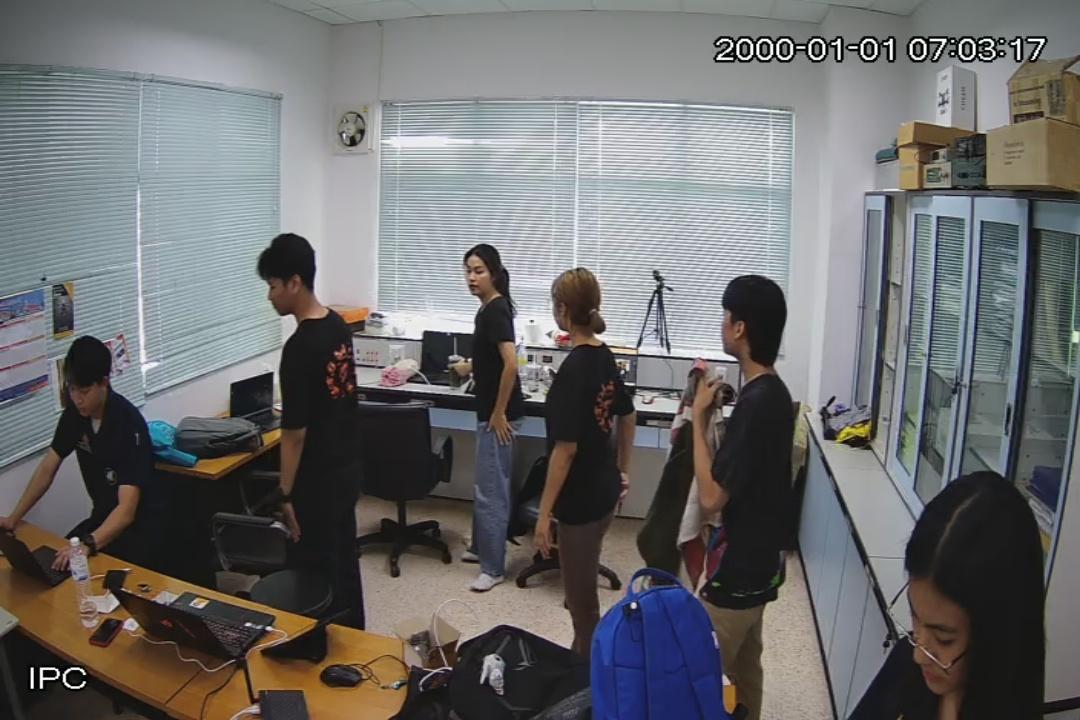normal: (674, 256, 808, 716), (250, 226, 376, 630), (536, 262, 632, 674), (0, 334, 156, 577), (458, 230, 528, 614)
